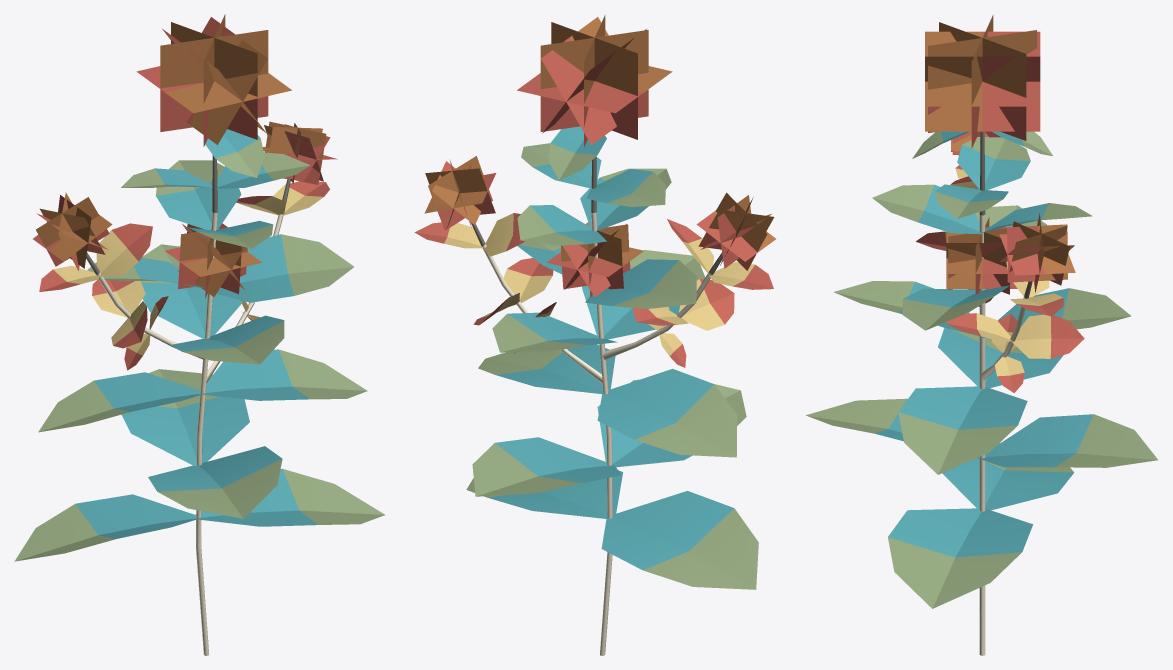
The model's file is itch_assetquest_pond_water_mint_3.glb.
3 renders of one model, left to right at view 1: azimuth 30°, elevation 25°; view 2: azimuth 150°, elevation 25°; view 3: azimuth 270°, elevation 25°, orthographic.
Visible parts, largest first — view 1: Watermint_3; view 2: Watermint_3; view 3: Watermint_3.
Part boxes in pixels (bbox=[...]): Watermint_3: bbox=[14, 14, 384, 655]; Watermint_3: bbox=[414, 15, 775, 655]; Watermint_3: bbox=[806, 15, 1158, 655].
Size of the model in its own units: 0.96 by 1.73 by 0.8896.
